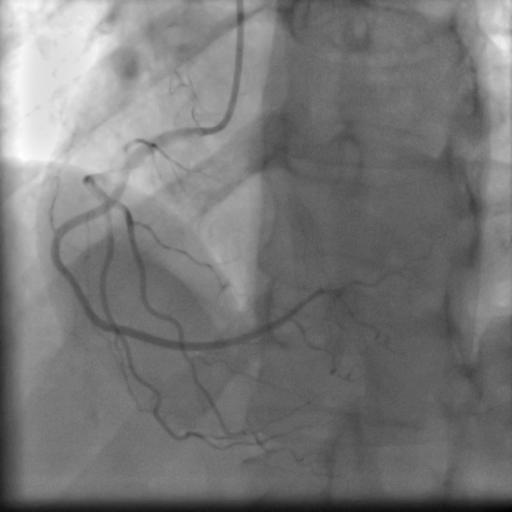Stenosis: (62, 261, 91, 315)
